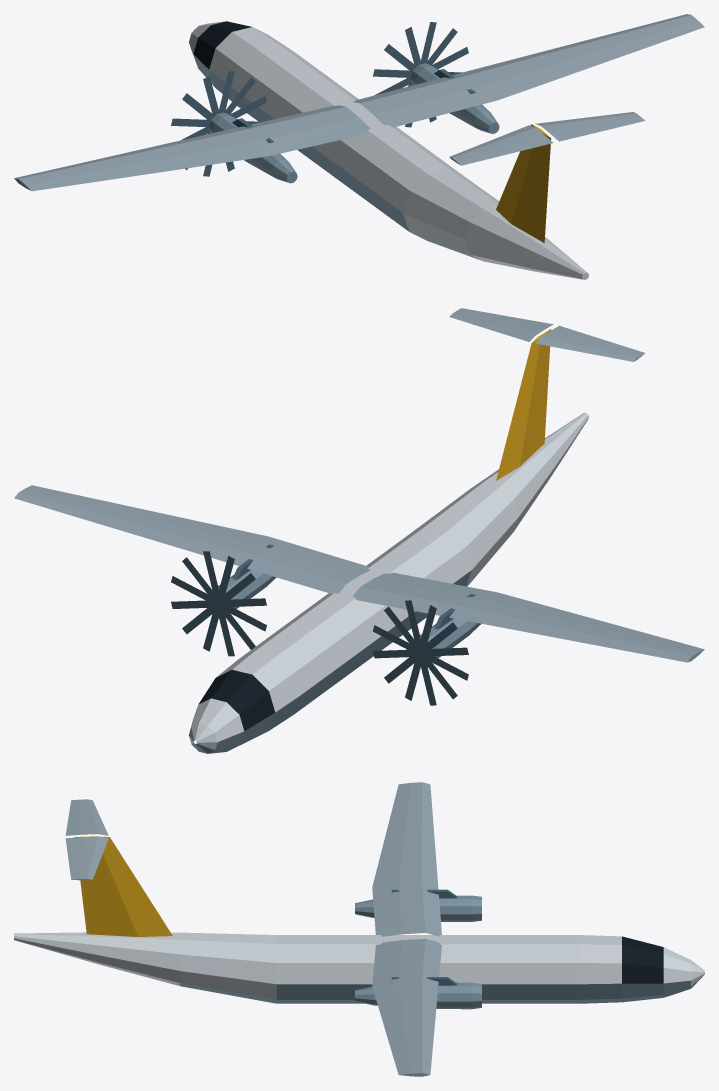
3 views of the same model, one above another, from view 1: azimuth 30°, elevation 25°; view 2: azimuth 150°, elevation 25°; view 3: azimuth 270°, elevation 25° (orthographic). The views are drawn at different scales.
Visible parts, largest first — view 1: lod0; view 2: lod0; view 3: lod0.
Part boxes in pixels (x1,y1,x2,y2): lod0: [14, 14, 704, 279]; lod0: [14, 308, 704, 753]; lod0: [14, 782, 704, 1076].
Size of what is drawn, in the model's own units: 0.9956 by 0.2616 by 1.
